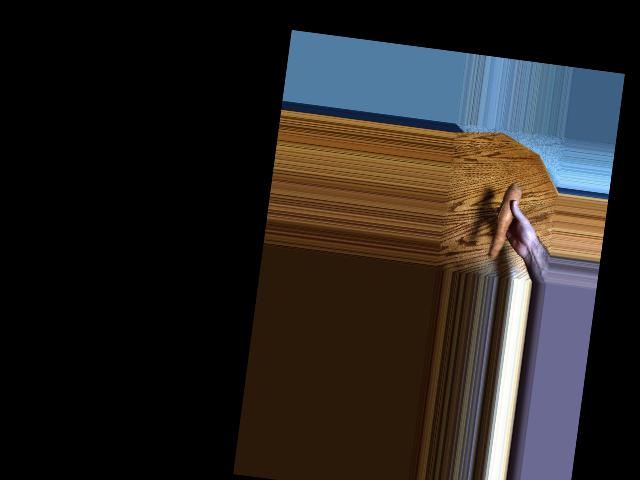sweet_potato: (491, 183, 516, 260)
